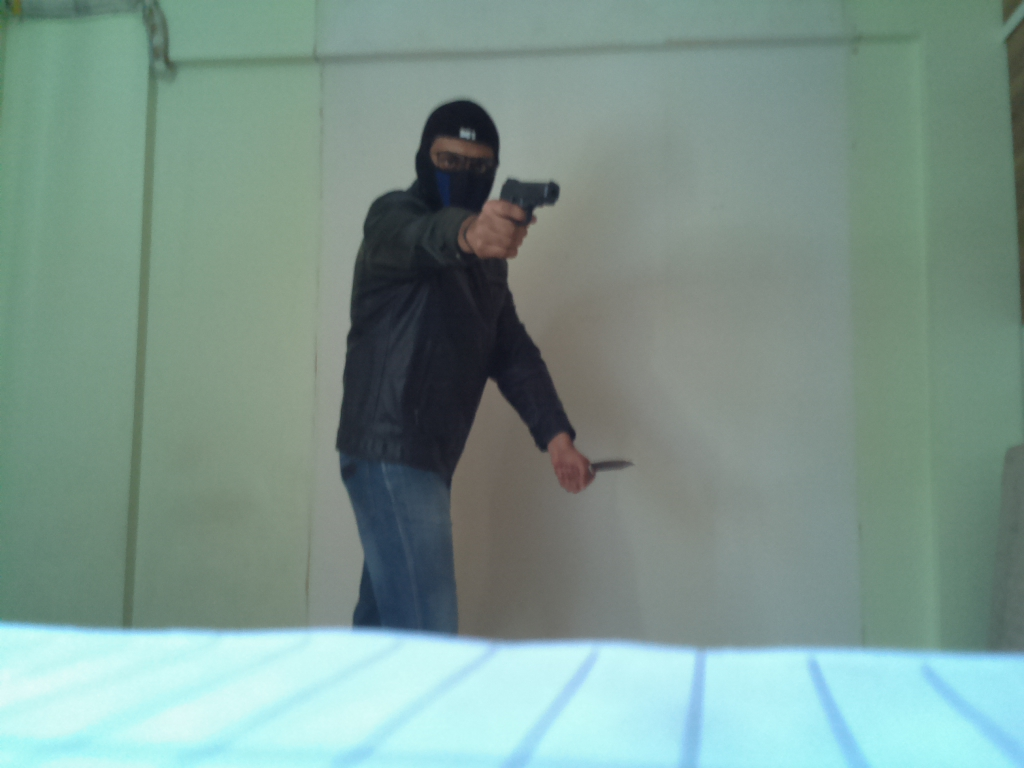gun: (495, 165, 559, 227)
knife: (578, 452, 643, 481)
